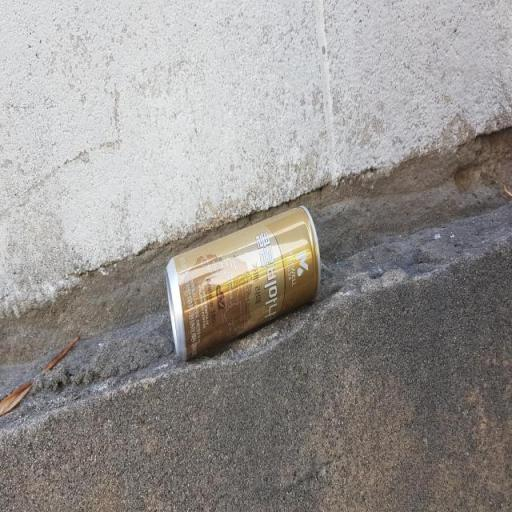metal: (128, 172, 346, 386)
